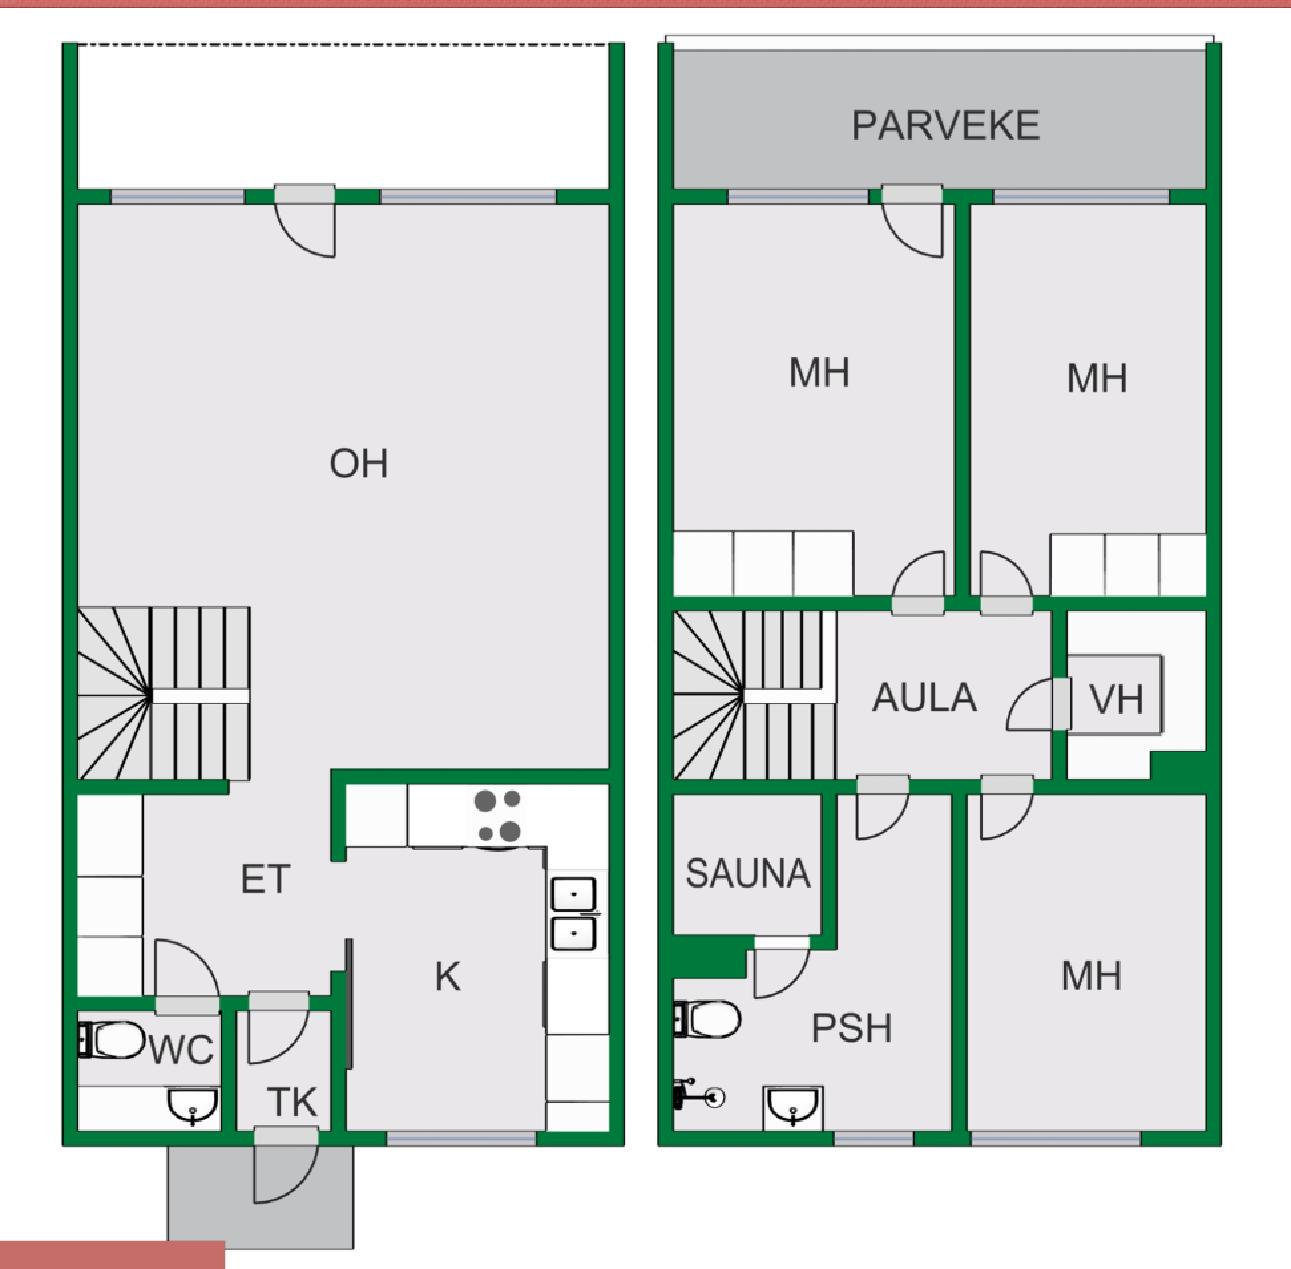door: (872, 185, 955, 265), (251, 1121, 324, 1209), (151, 935, 224, 1018), (272, 185, 343, 268), (246, 988, 321, 1063), (750, 935, 816, 1004), (1004, 676, 1080, 736), (981, 773, 1039, 849), (974, 550, 1037, 619), (855, 773, 917, 838), (892, 550, 947, 612)
window: (381, 181, 555, 206), (385, 1127, 535, 1154), (109, 185, 245, 210), (724, 184, 872, 206), (989, 186, 1160, 205), (971, 1131, 1136, 1146), (833, 1127, 912, 1147)
zone: (81, 206, 608, 990), (675, 202, 953, 597), (677, 793, 956, 1130), (347, 784, 614, 1132), (974, 202, 1206, 600), (963, 793, 1208, 1130), (670, 46, 1208, 189), (76, 43, 605, 182), (676, 609, 1047, 780), (1060, 607, 1206, 784), (675, 793, 822, 934), (76, 1011, 220, 1131), (238, 1006, 331, 1130)
